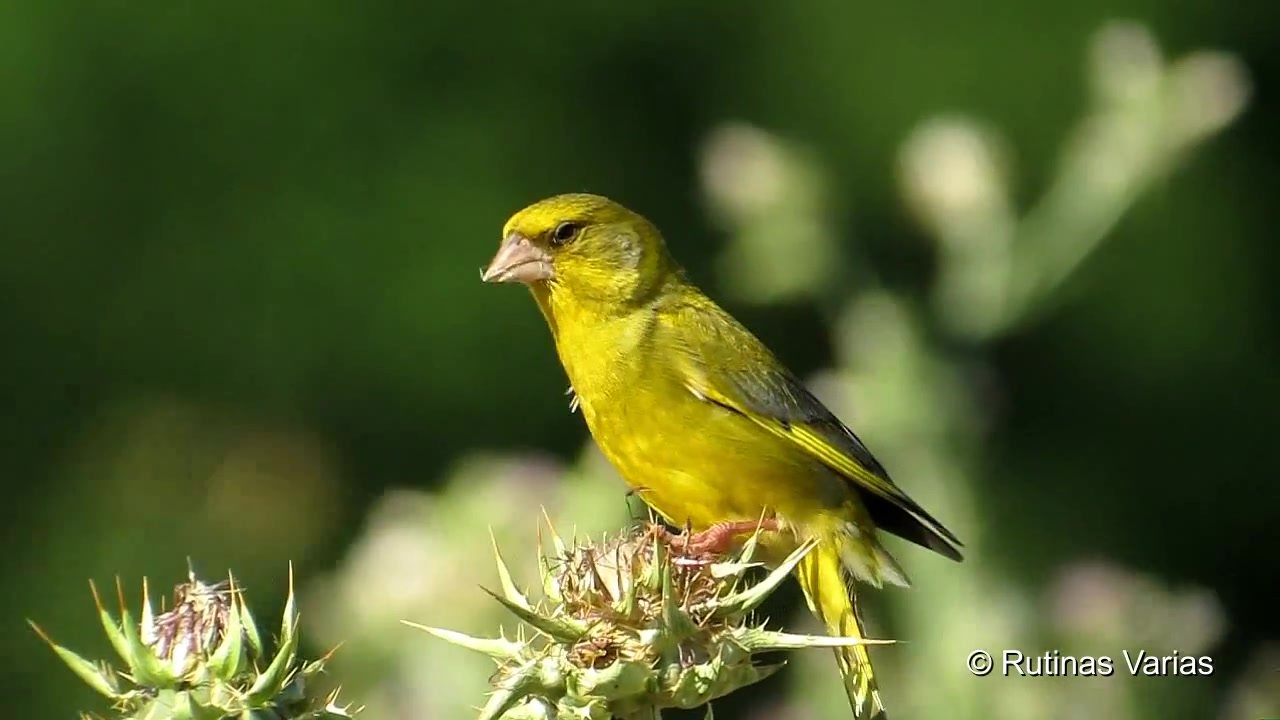bird: (475, 188, 967, 720)
